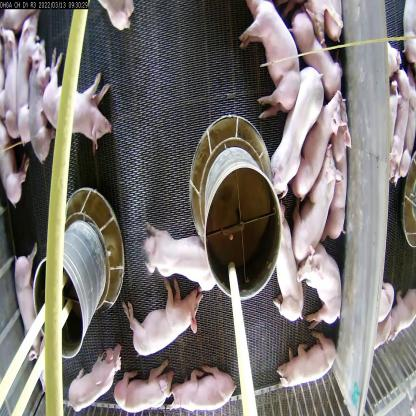Pig: (237, 0, 308, 125), (125, 270, 207, 366), (43, 50, 118, 141), (17, 21, 56, 177), (135, 222, 216, 295), (276, 67, 324, 185), (292, 233, 350, 330), (264, 195, 305, 327), (288, 145, 332, 251), (154, 353, 226, 416), (293, 10, 343, 97), (299, 95, 342, 194), (67, 342, 121, 415), (115, 357, 178, 415), (12, 248, 42, 319), (278, 335, 317, 368)
